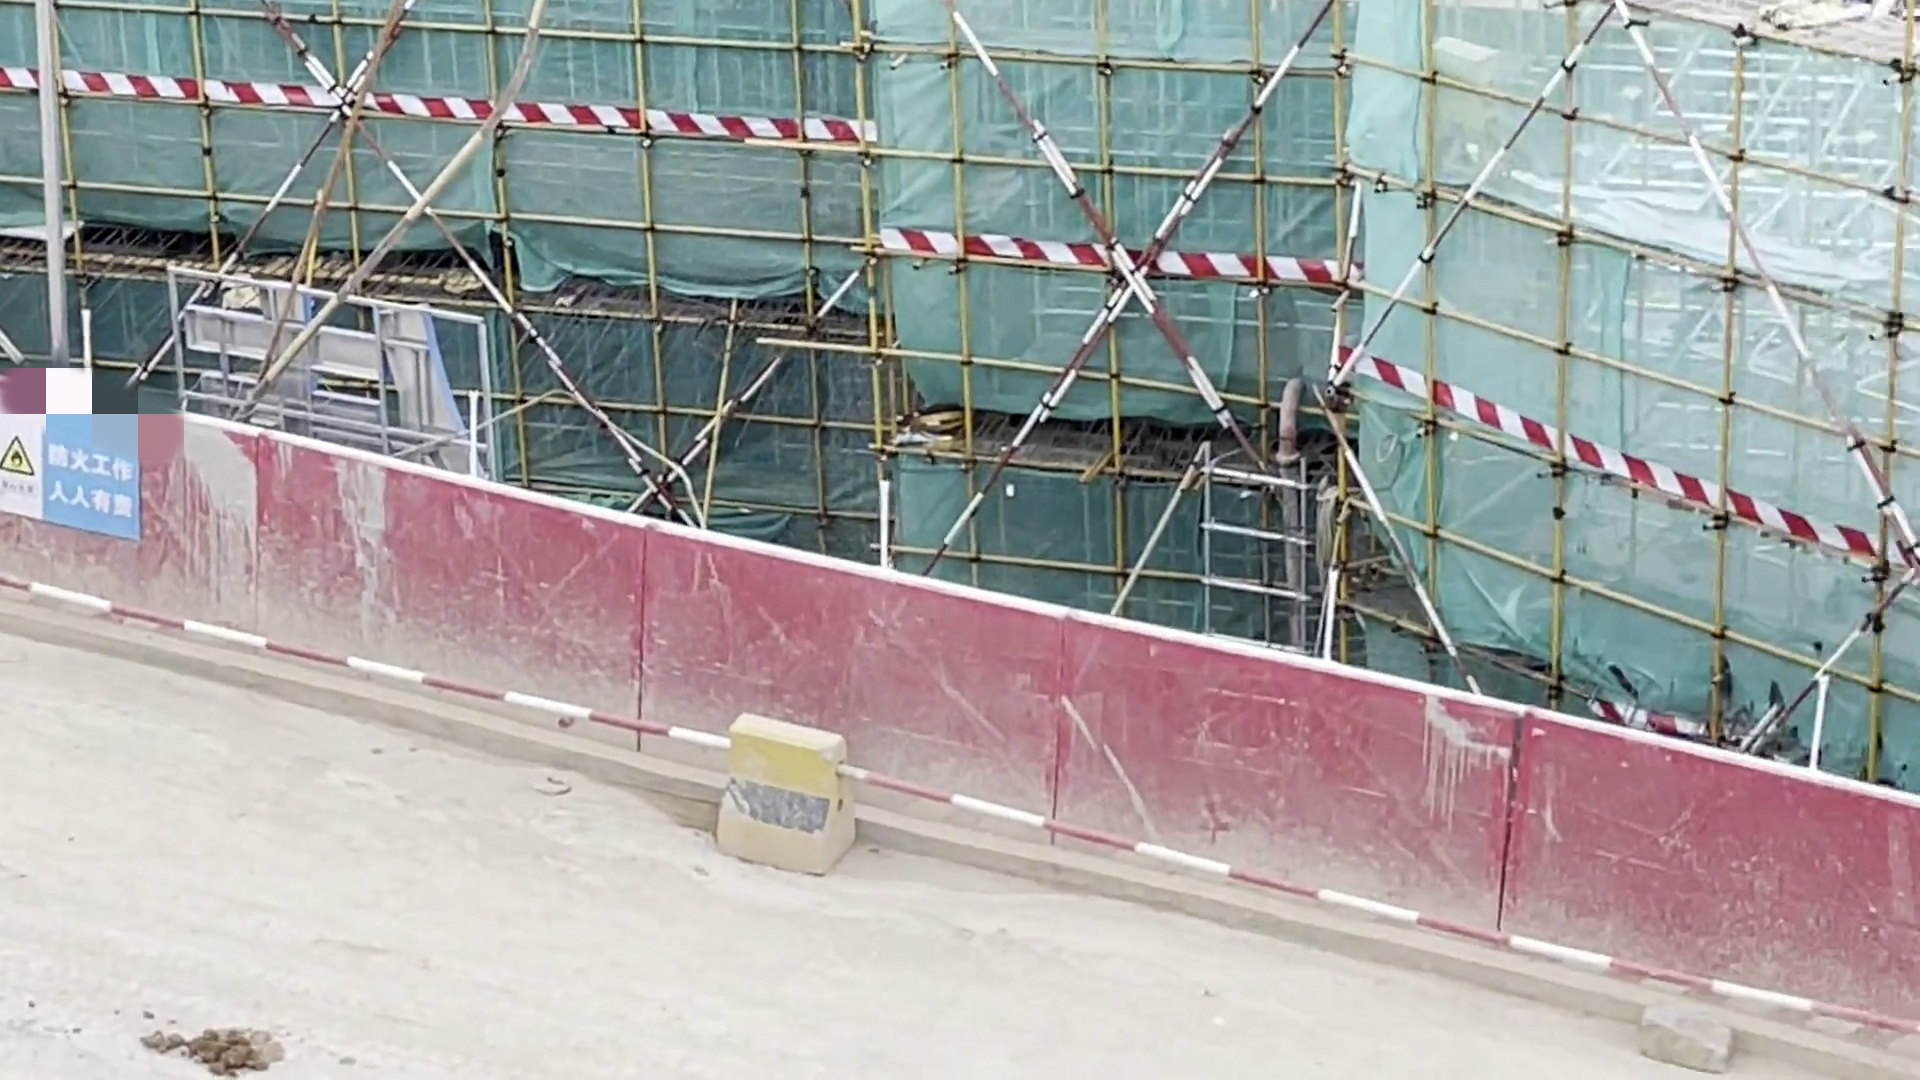fence: (1, 349, 1793, 1039)
slogan: (1, 404, 141, 529)
